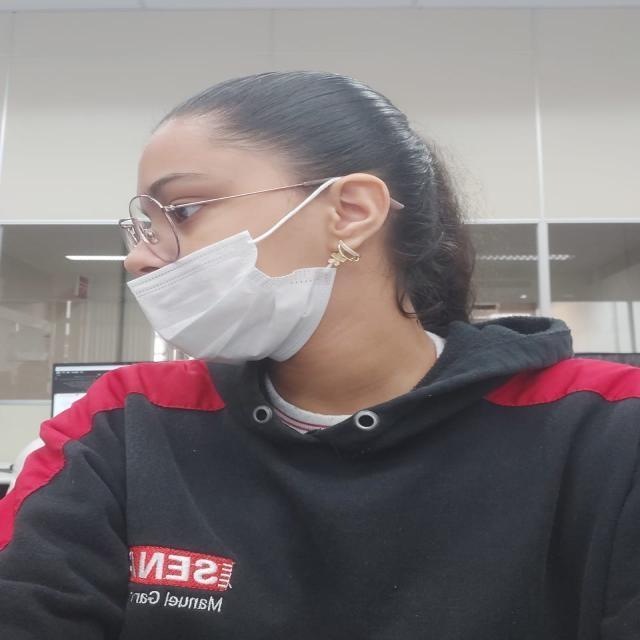hairnet: (110, 123, 350, 353)
